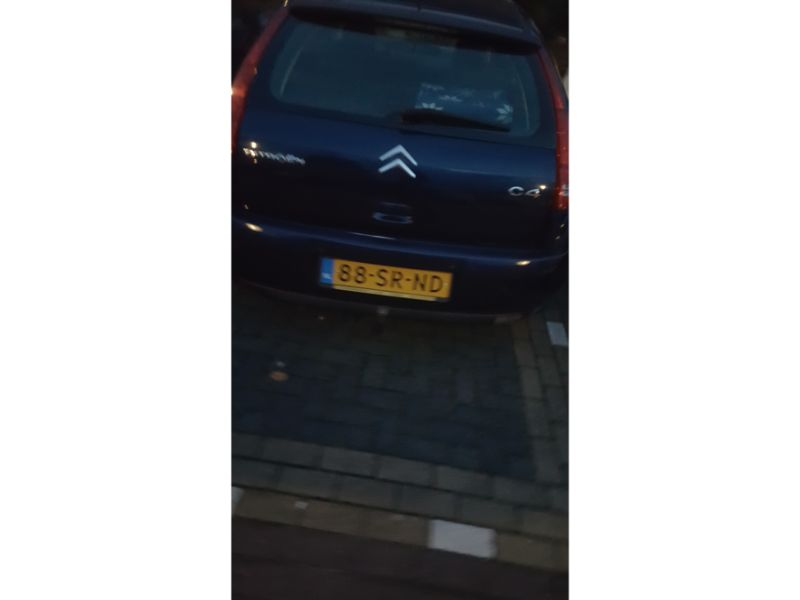kenteken: (315, 260, 455, 303)
